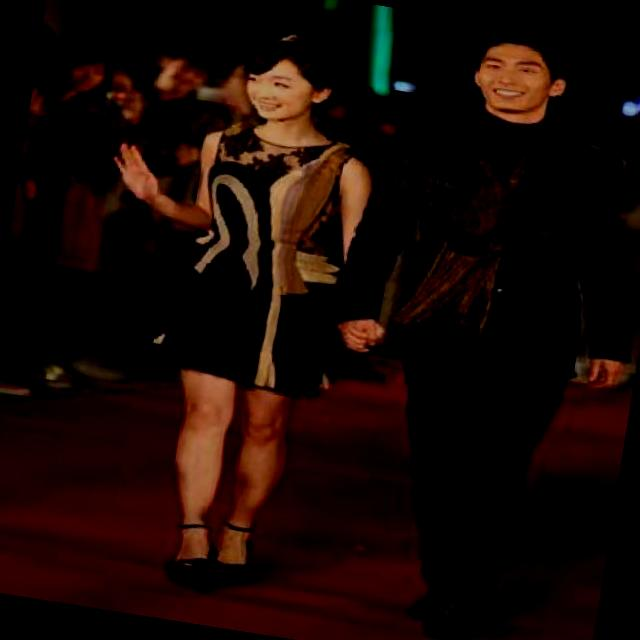Person: (33, 0, 403, 607), (292, 7, 640, 640)
